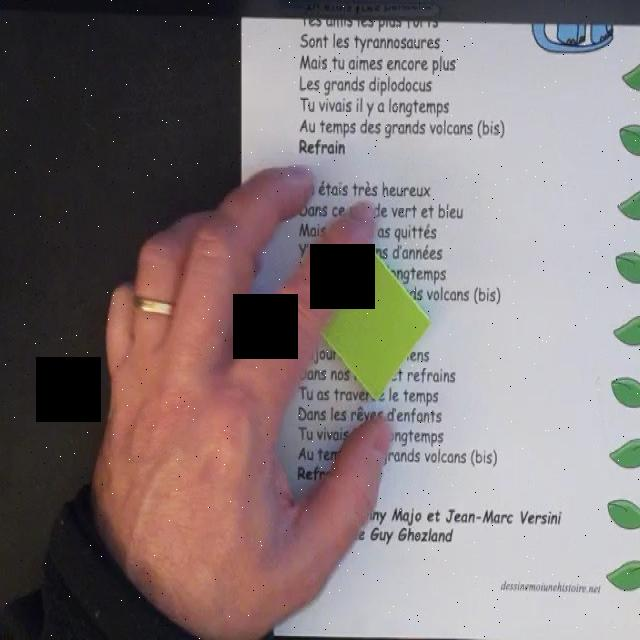square: (318, 248, 432, 402)
